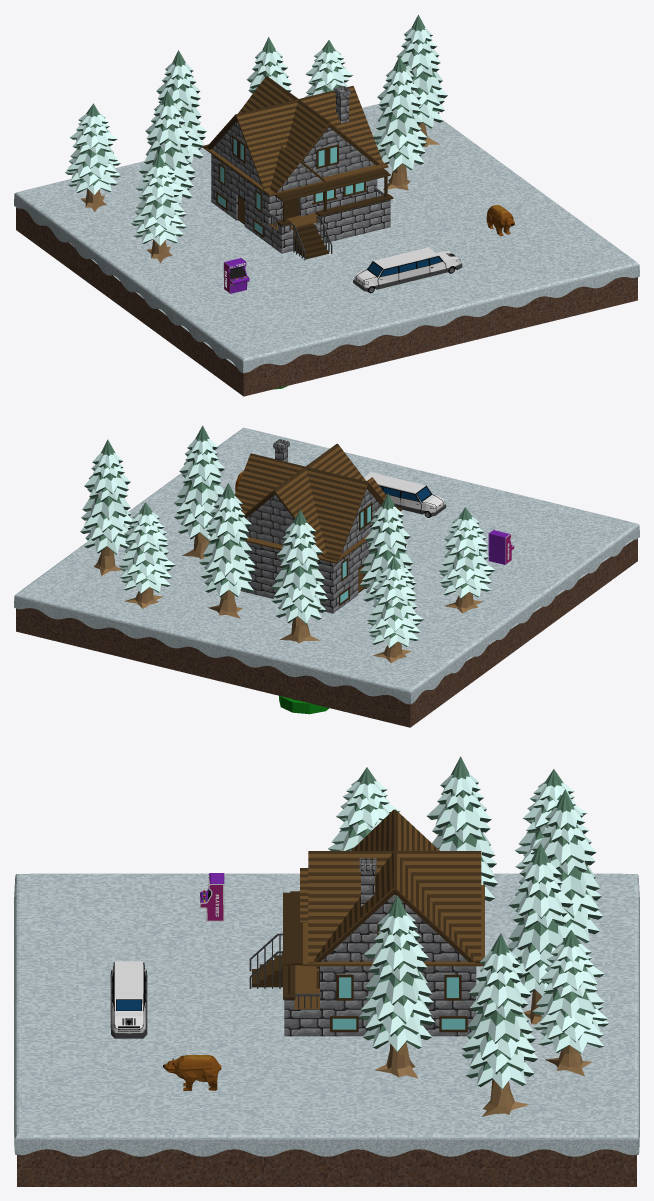
3 views of the same model, one above another, from view 1: azimuth 30°, elevation 25°; view 2: azimuth 150°, elevation 25°; view 3: azimuth 270°, elevation 25° (orthographic). The views are drawn at different scales.
Visible parts, largest first — view 1: Cube.003, Cube.586, VEHICLES_LIMOUSINE, OBJRANDOM_ARCADE, ANIMAL_OSO; view 2: Cube.003, Cube.586, VEHICLES_LIMOUSINE, OBJRANDOM_ARCADE, UNDERGROUND_PIPES; view 3: Cube.003, Cube.586, VEHICLES_LIMOUSINE, ANIMAL_OSO, OBJRANDOM_ARCADE.
Part boxes in pixels (x1,y1,x2,y2): Cube.003: (14, 14, 639, 396); Cube.586: (202, 76, 393, 260); VEHICLES_LIMOUSINE: (353, 247, 462, 293); OBJRANDOM_ARCADE: (223, 257, 249, 293); ANIMAL_OSO: (486, 204, 514, 236); Cube.003: (14, 425, 639, 727); Cube.586: (234, 439, 405, 613); VEHICLES_LIMOUSINE: (364, 472, 446, 517); OBJRANDOM_ARCADE: (488, 529, 514, 564); UNDERGROUND_PIPES: (279, 696, 329, 714); Cube.003: (14, 756, 639, 1186); Cube.586: (249, 809, 484, 1036); VEHICLES_LIMOUSINE: (110, 961, 147, 1038); ANIMAL_OSO: (163, 1055, 221, 1090); OBJRANDOM_ARCADE: (200, 873, 224, 921).
Bounding box in the file's own units: 4040 × 2275 × 4040.
Materials: 34 (4 with a texture image).
